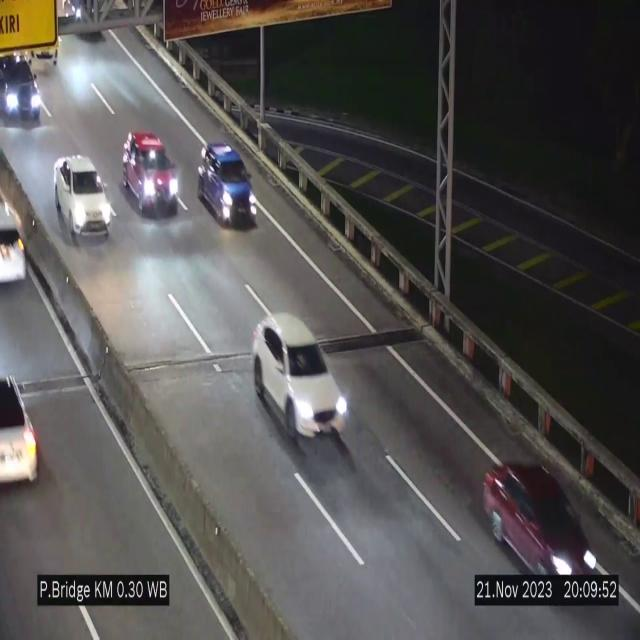Car: (482, 465, 600, 577), (252, 314, 350, 440), (0, 366, 44, 495), (55, 155, 111, 243), (121, 130, 180, 213), (0, 192, 36, 326), (198, 143, 256, 226), (0, 52, 44, 127)
